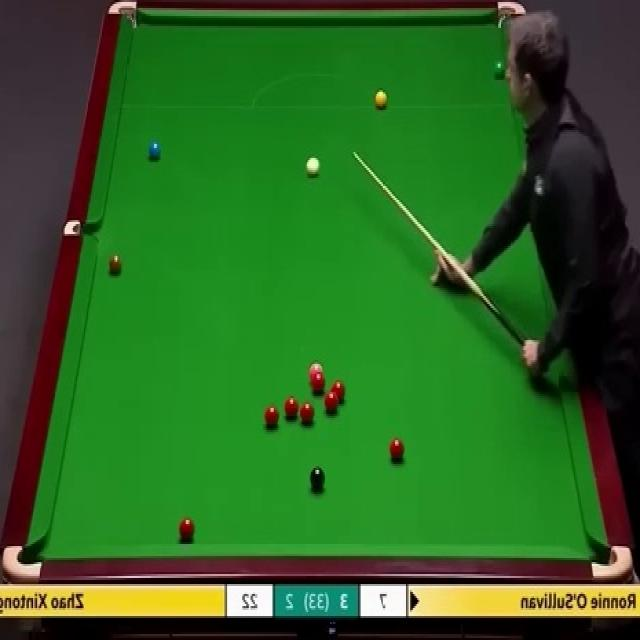pocket: (588, 543, 635, 582), (3, 543, 45, 582), (108, 0, 140, 32), (63, 218, 100, 237), (494, 0, 528, 17)
